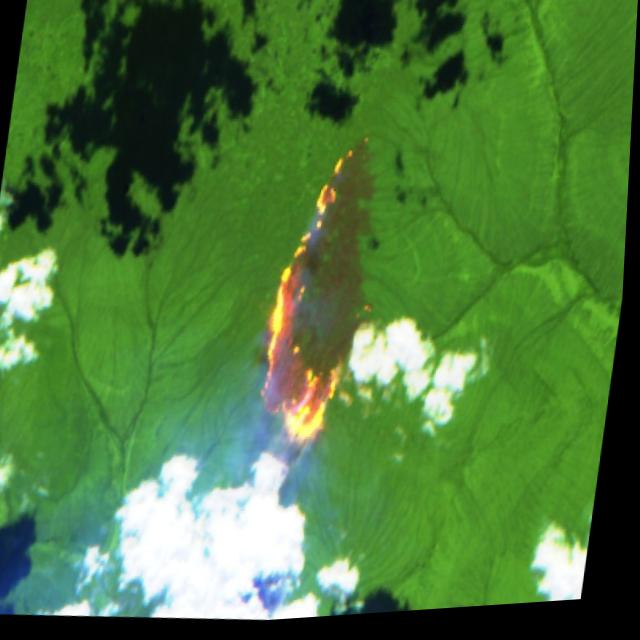fire: (248, 126, 402, 467)
